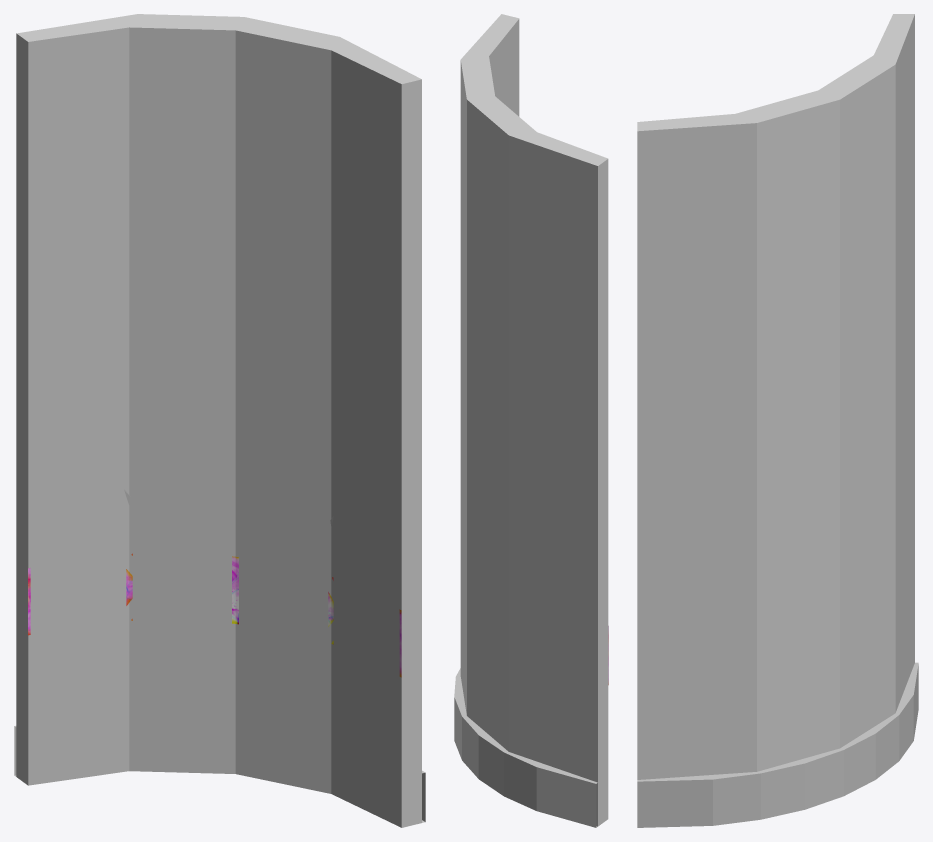
File: wall_01_corner_a.fbx
The picture shows the model from 3 angles, left to right: view 1: azimuth 30°, elevation 25°; view 2: azimuth 150°, elevation 25°; view 3: azimuth 270°, elevation 25°; orthographic projection. The views are drawn at different scales.
Visible parts, largest first — view 1: Cylinder.027, Cylinder.026; view 2: Cylinder.027, Cylinder.024; view 3: Cylinder.027, Cylinder.024.
Boxes of the visible parts, x1,y1,x2,y2 form: Cylinder.027: (16,14,421,827); Cylinder.026: (28,553,401,677); Cylinder.027: (460,14,608,826); Cylinder.024: (454,668,597,827); Cylinder.027: (637,14,914,779); Cylinder.024: (637,662,918,827).
Size of the model in its own units: 110 by 300 by 110.
